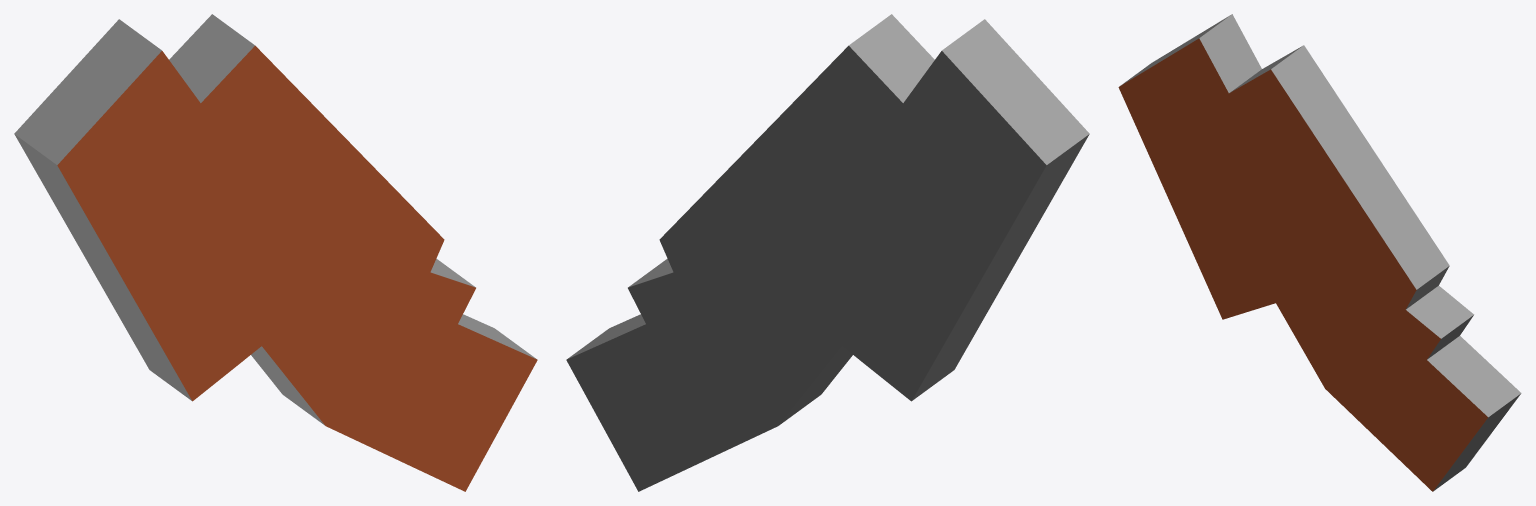
The model's file is construction_5539_assumed_A_Casa_h6m.obj.
3 views of the same model, side by side, from view 1: azimuth 30°, elevation 25°; view 2: azimuth 150°, elevation 25°; view 3: azimuth 330°, elevation 25° (orthographic). The views are drawn at different scales.
Parts seen in each view (by area): view 1: construction_5539_assumed_A_Casa; view 2: construction_5539_assumed_A_Casa; view 3: construction_5539_assumed_A_Casa.
Boxes of the visible parts, x1=… form: construction_5539_assumed_A_Casa: x1=14, y1=14, x2=537, y2=491; construction_5539_assumed_A_Casa: x1=566, y1=14, x2=1089, y2=491; construction_5539_assumed_A_Casa: x1=1118, y1=14, x2=1521, y2=491.
Bounding box in the file's own units: 38.65 × 39.61 × 6.
